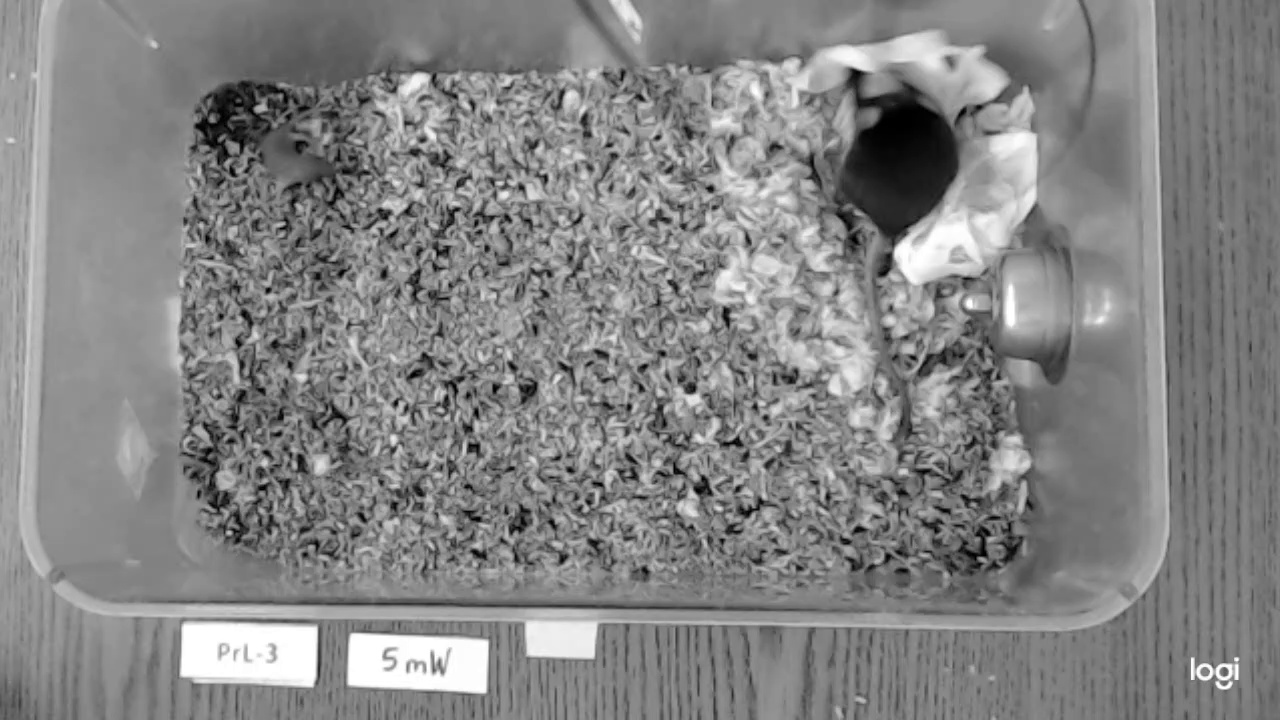child-mice: (257, 124, 333, 190)
